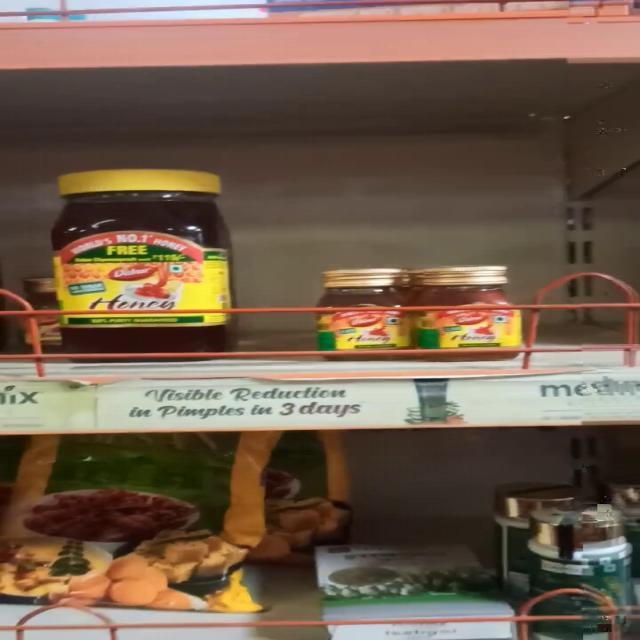Dabur Honey: (63, 174, 245, 357), (418, 266, 526, 354), (320, 268, 410, 352)
